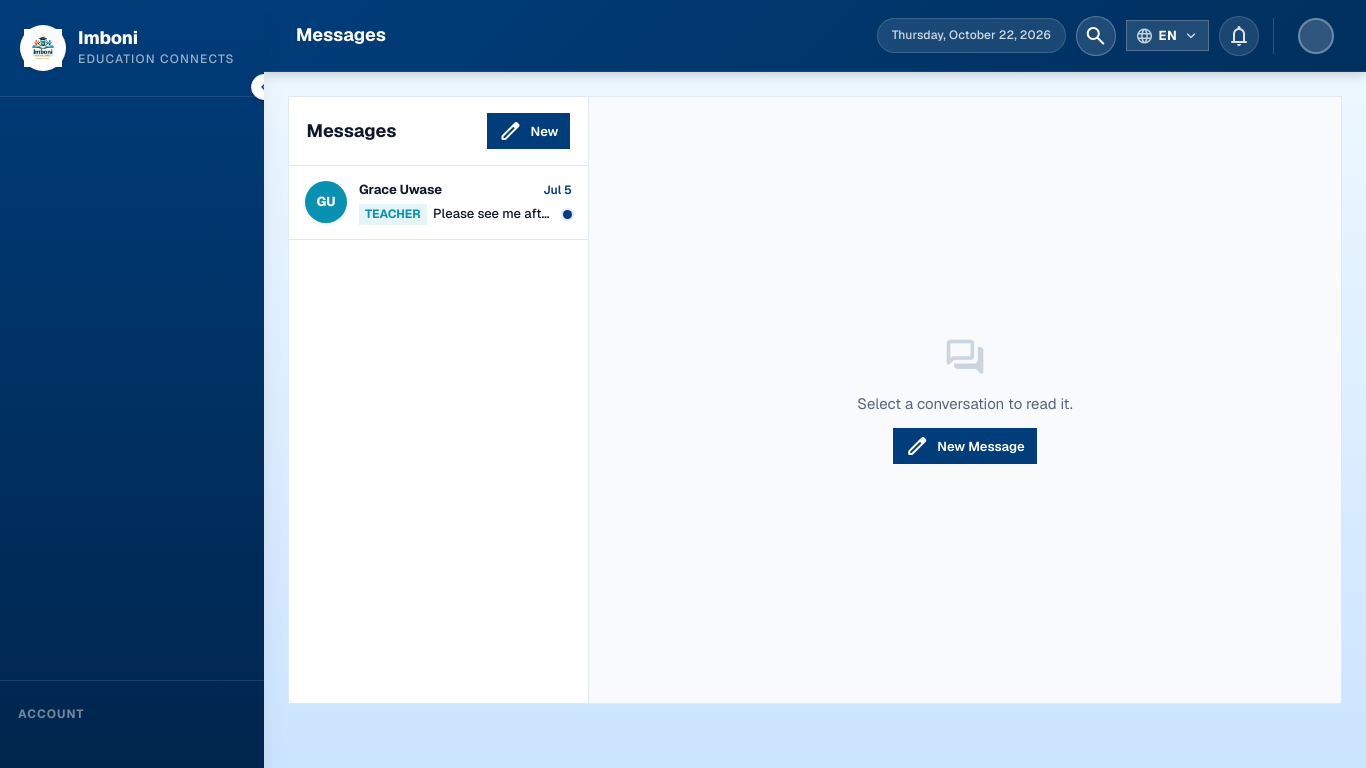
Test: LiveMessages: sending and arriving › shows your message at once, before the server has answered
This screenshot has width=1366, height=768.
Expected: the text "Grace Uwase" is shown, [359,181,442,198]
Click the text "Please see me after class".
click(495, 214)  # box [433,204,557,225]
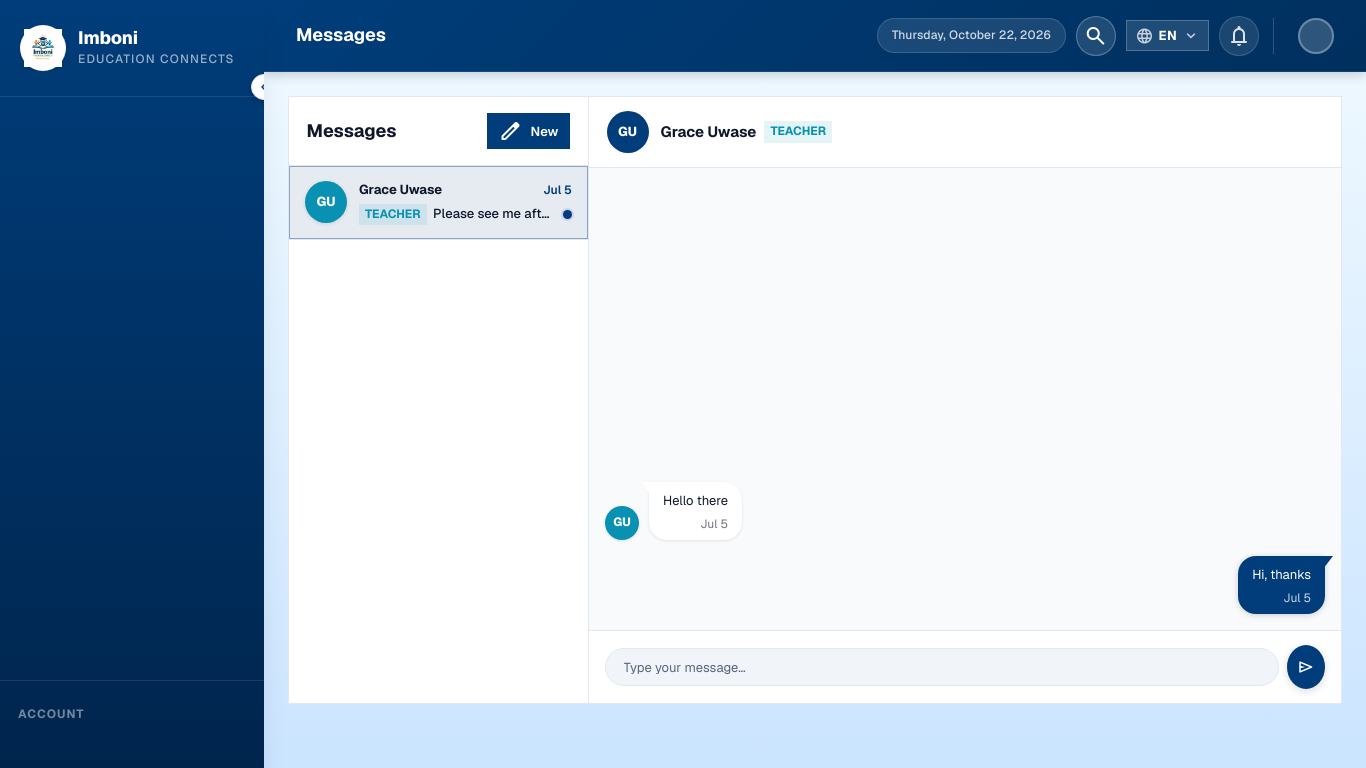
Now the text "Hello there" is shown, box [663,490,728,511]
Type "On my way" into the field with placeholder "Type your message…".
click(942, 667); type("On my way")  # box [605,648,1279,686]
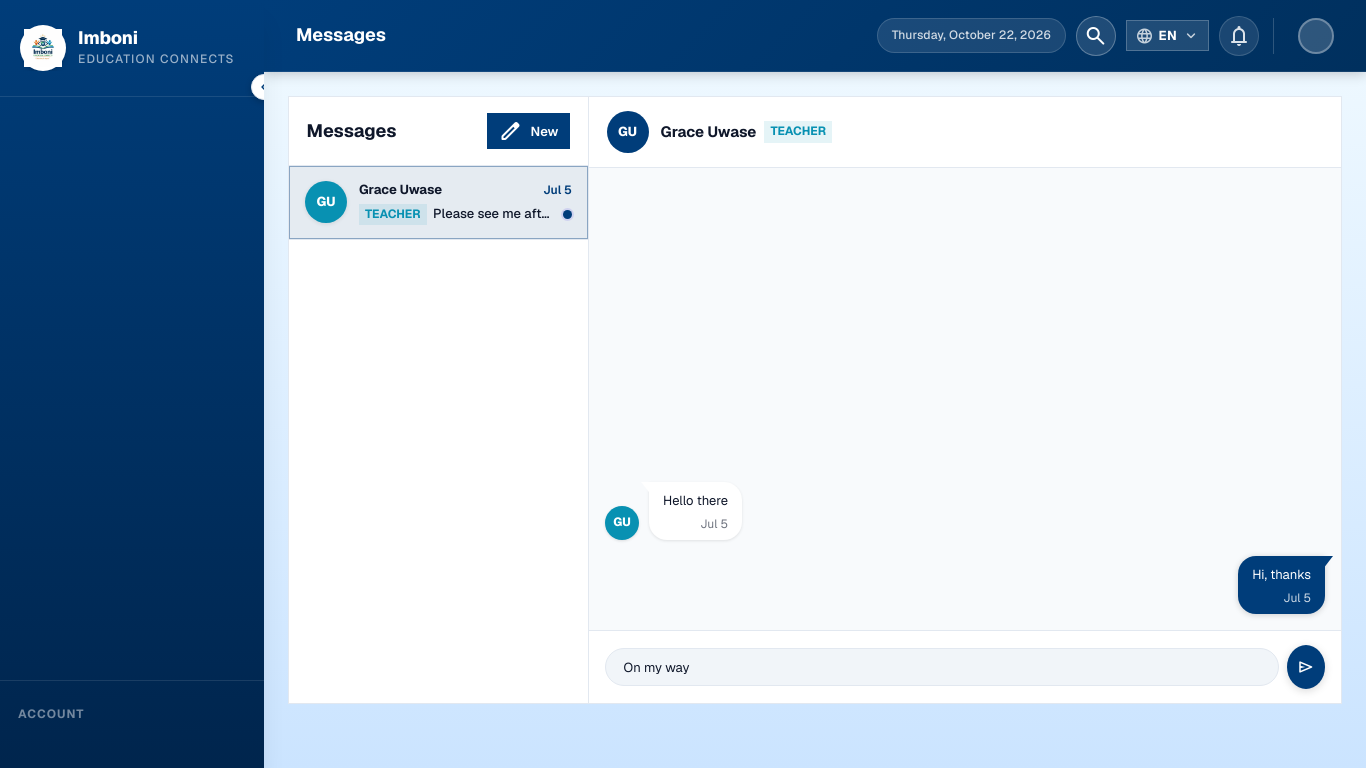
Click the button named "Send".
click(1306, 667)  # box [1287,645,1325,689]
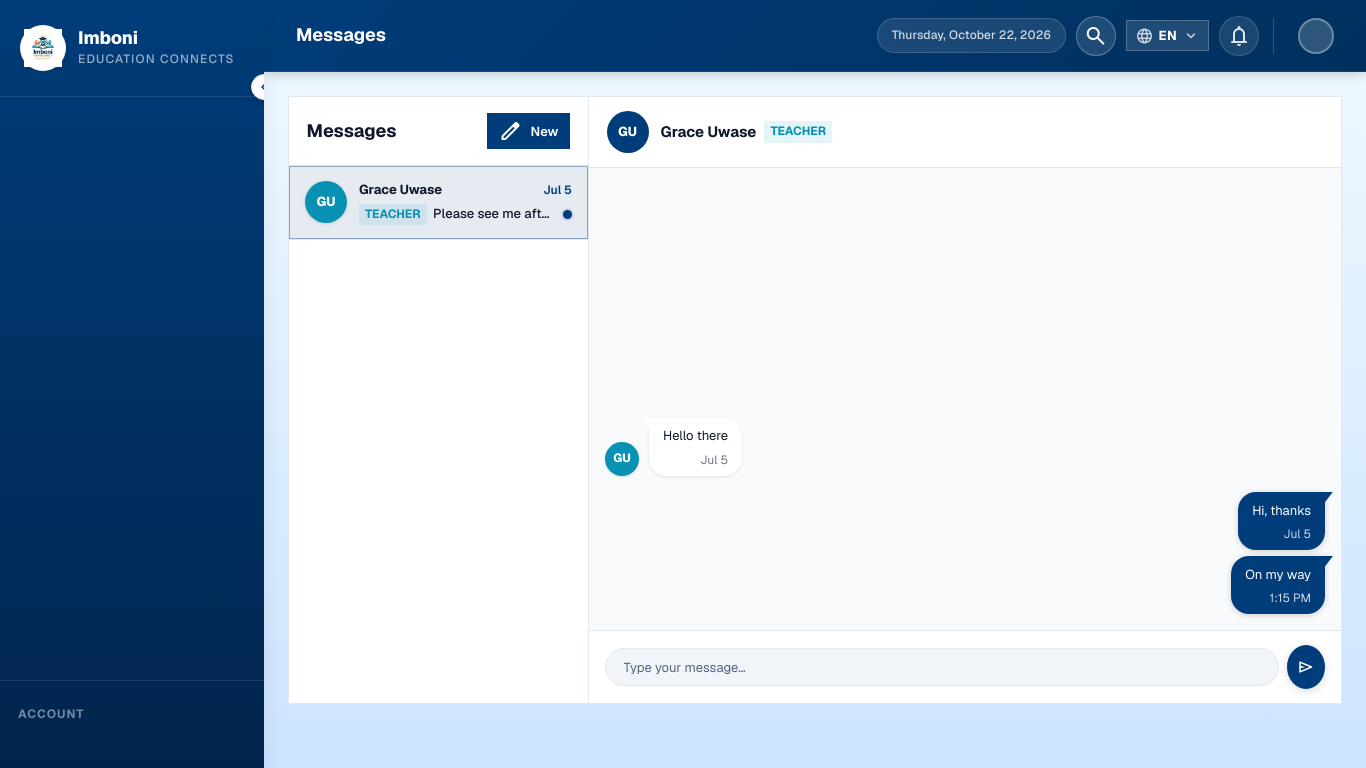
Now the text "On my way" is shown, box [1245,565,1311,585]
Now the field with placeholder "Type your message…" is empty, box [605,648,1279,686]
